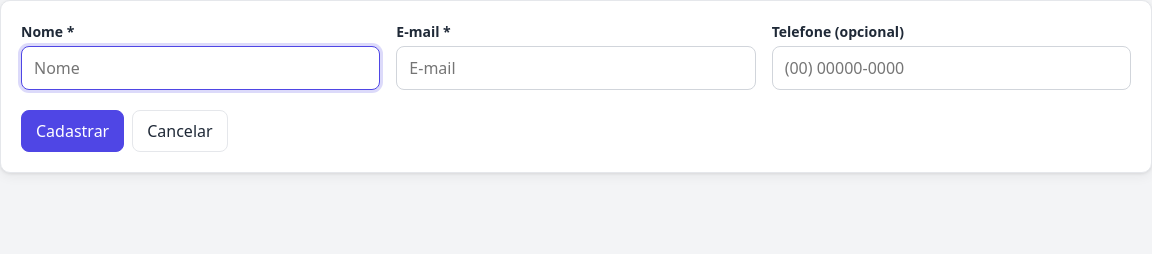
ClienteForm › validação › mostra erro quando o nome está vazio
This screenshot has width=1152, height=254.
Click the button "Cadastrar" at [73, 131], box [21, 110, 124, 152]
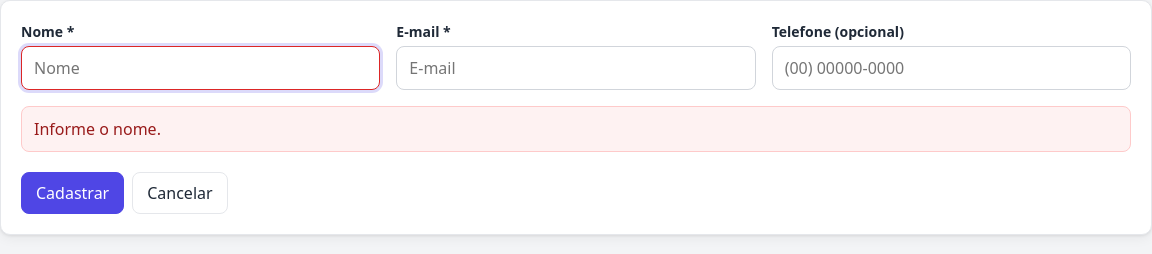
Result: the message with class "erro" shows "nome" at [34, 118, 161, 140]
